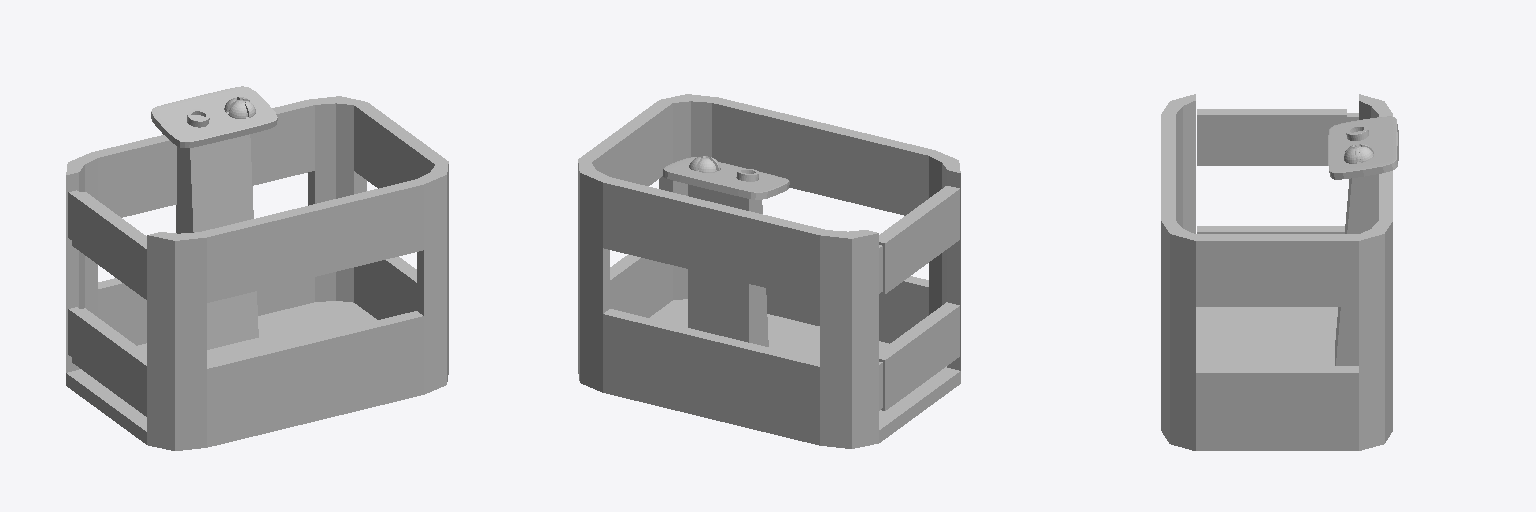
File: Control Bucket.obj
3 renders of one model, left to right at view 1: azimuth 30°, elevation 25°; view 2: azimuth 150°, elevation 25°; view 3: azimuth 270°, elevation 25°, orthographic.
Visible parts, largest first — view 1: Control_Box; view 2: Control_Box; view 3: Control_Box.
Boxes of the visible parts, <box> form: Control_Box: <box>66,86,448,450</box>; Control_Box: <box>578,94,960,448</box>; Control_Box: <box>1161,94,1398,450</box>.
Size of the model in its own units: 59.06 by 45.61 by 40.33.